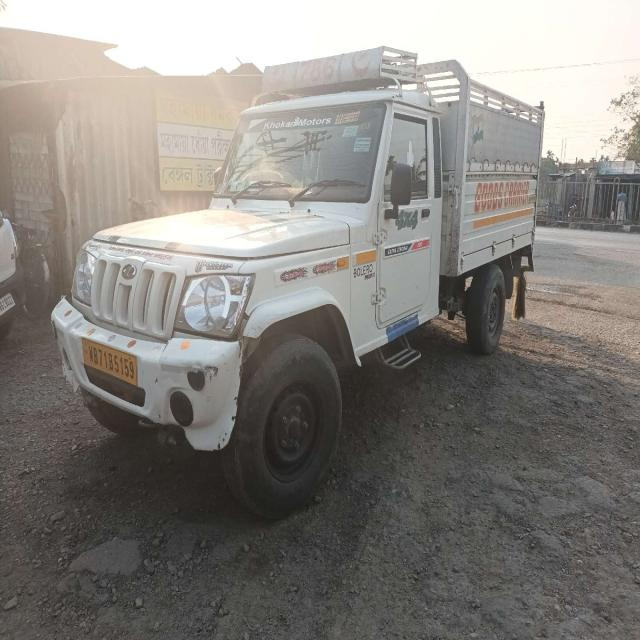light_vehicle: (49, 85, 560, 439)
